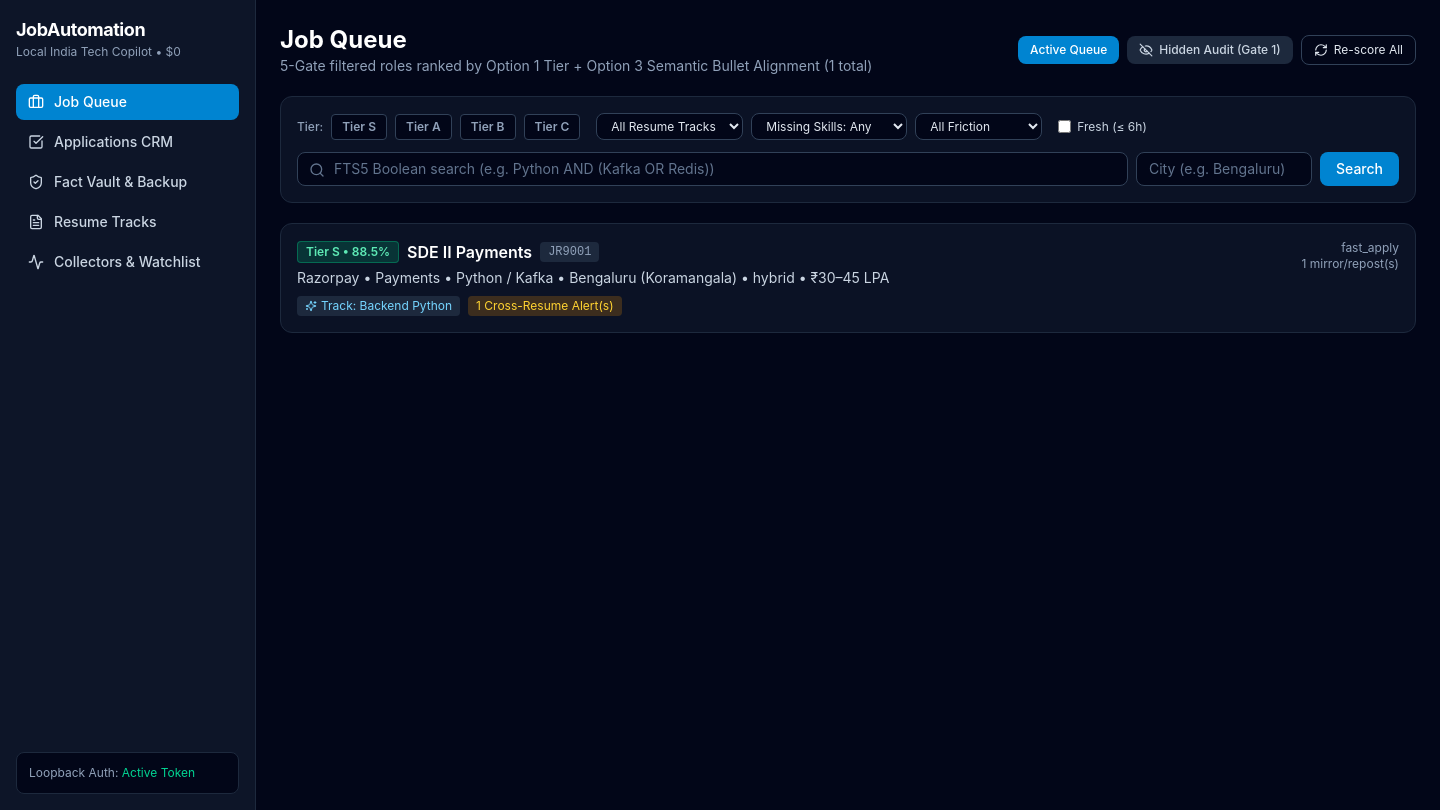
Test: JobAutomation Dashboard (Cycle 5) › renders Job Queue, binds FTS5 search & tier filter, and toggles Hidden Audit tab
The image size is (1440, 810).
Check: the heading "SDE II Payments" is shown, box [407, 240, 532, 264]
Check: the text "Tier S • 88.5%" is shown, box [297, 241, 399, 263]
Note: FTS5 search + Tier S filter
Click the button "Tier S": (359, 126) [331, 114, 387, 140]
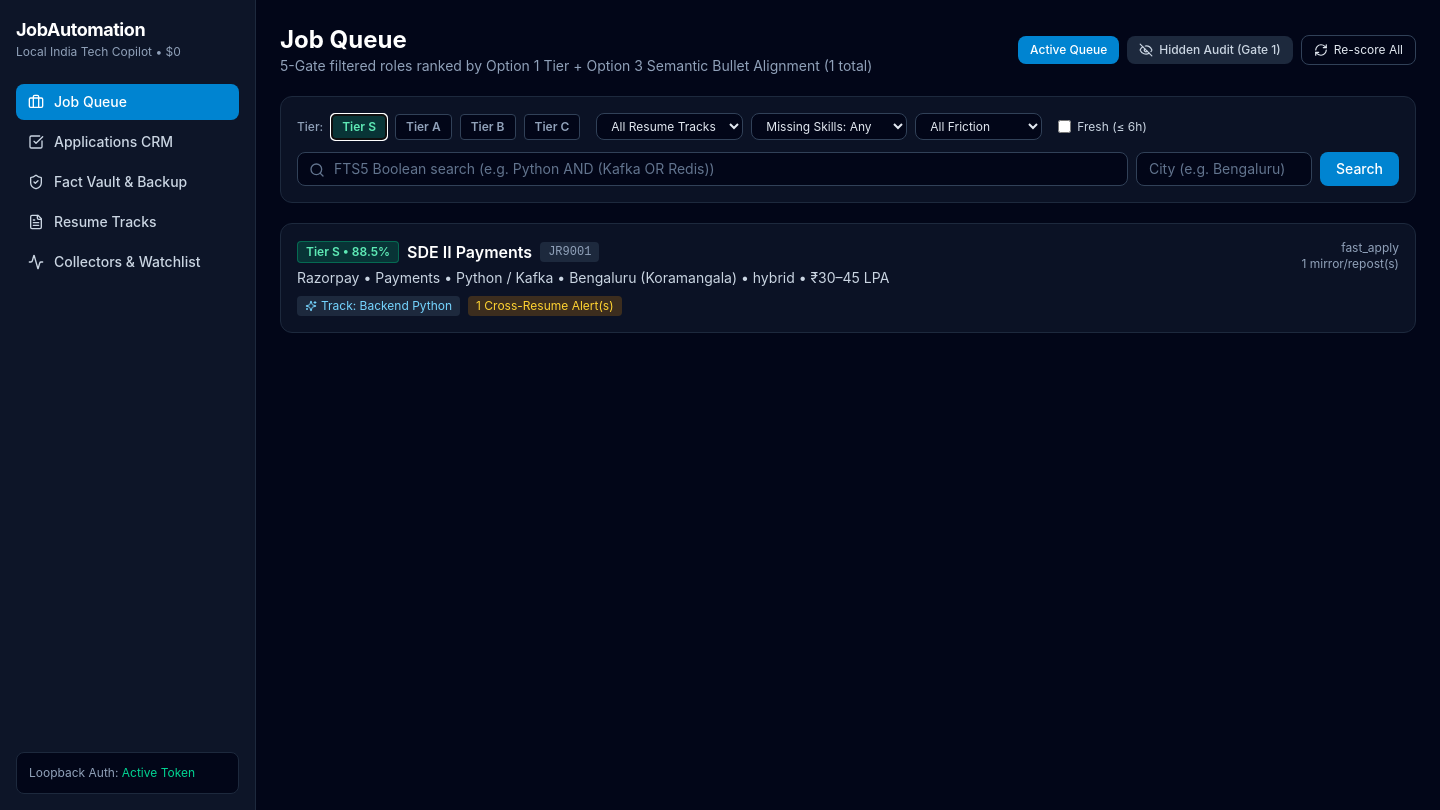
In the field with placeholder "FTS5 Boolean search (e.g. Python AND (Kafka OR Redis))": (712, 169) [297, 152, 1128, 186], type "Python AND Kafka"
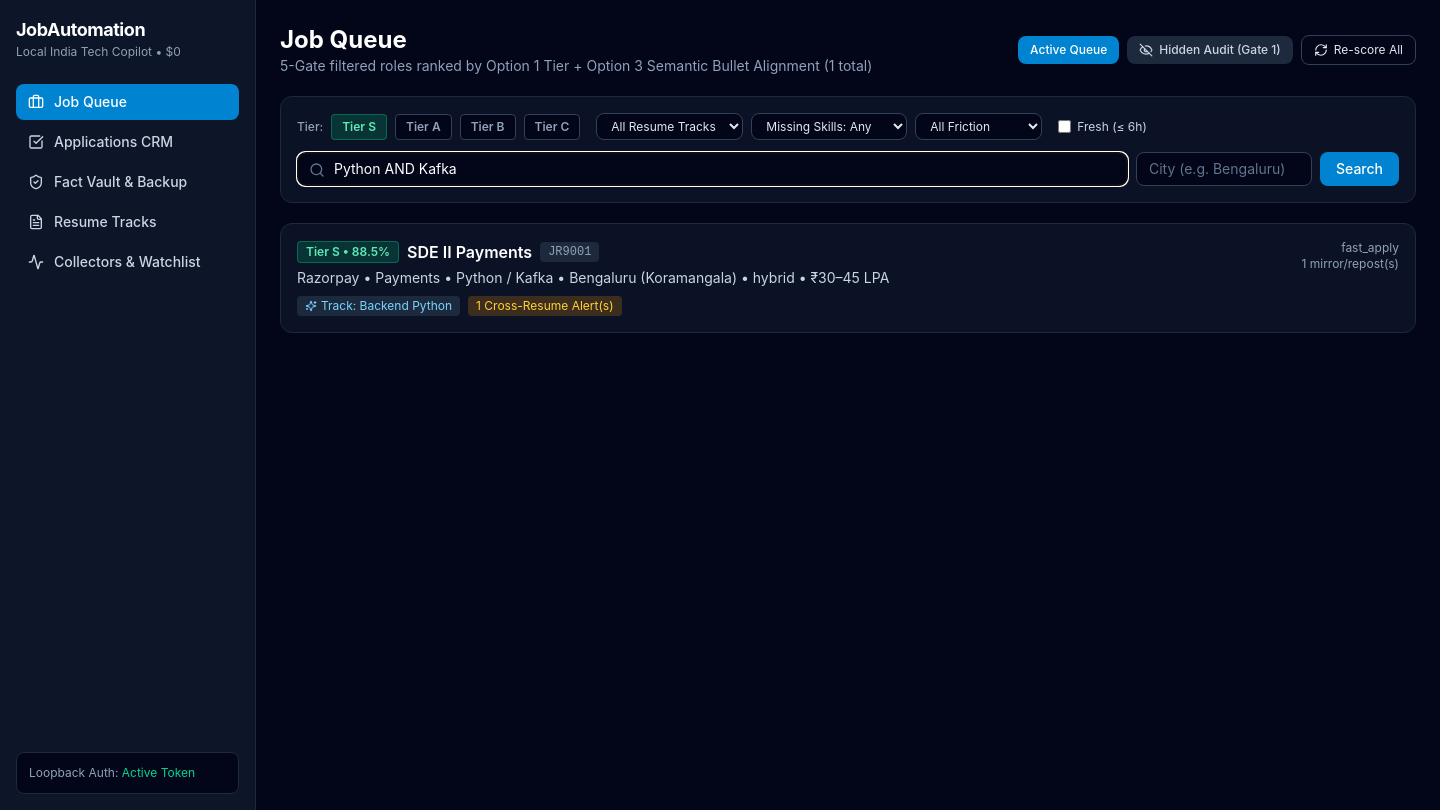
Click the button "Search": (1360, 169) [1320, 152, 1399, 186]
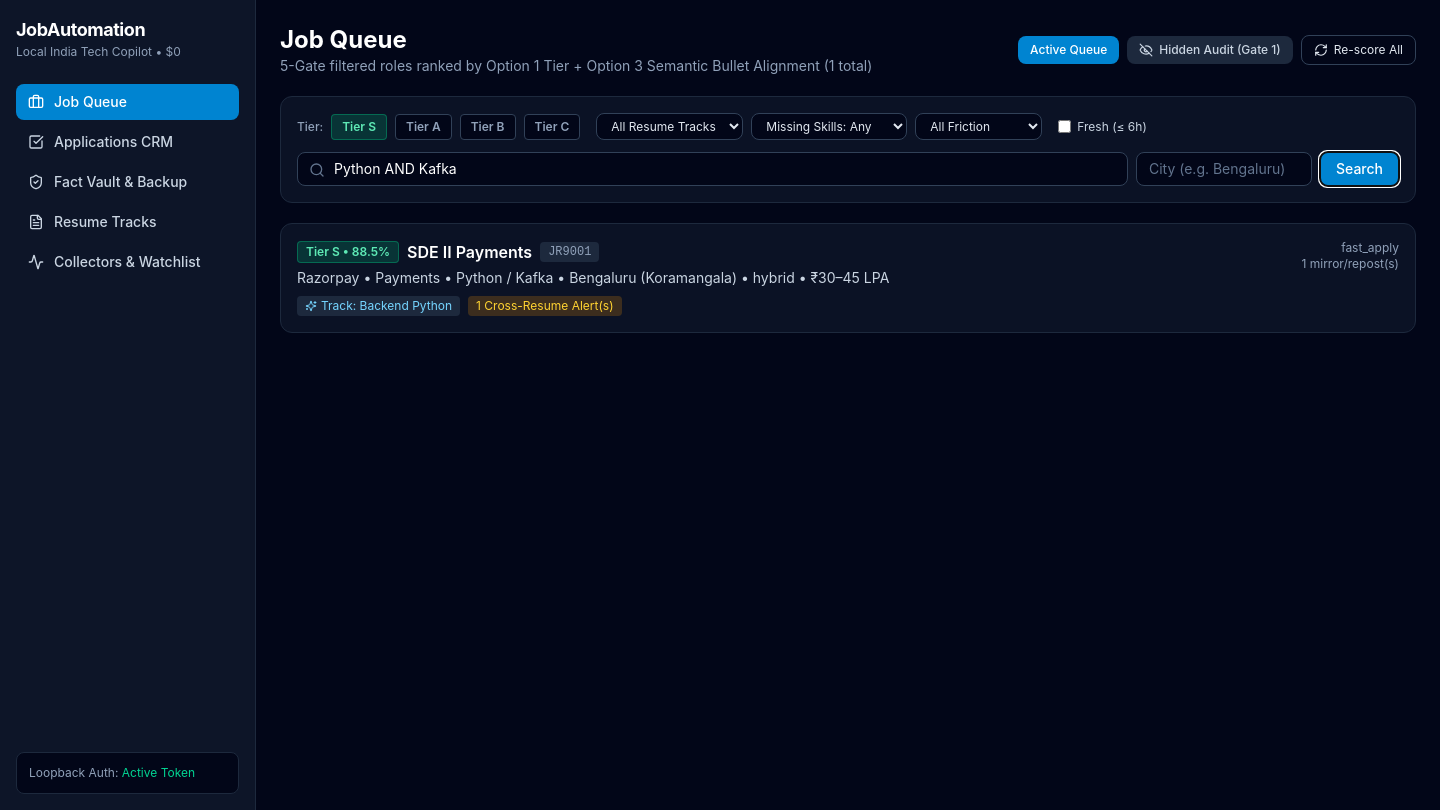
Note: Switch to Hidden Audit tab
Click the button "Hidden Audit (Gate 1)": (1210, 50) [1127, 36, 1293, 64]
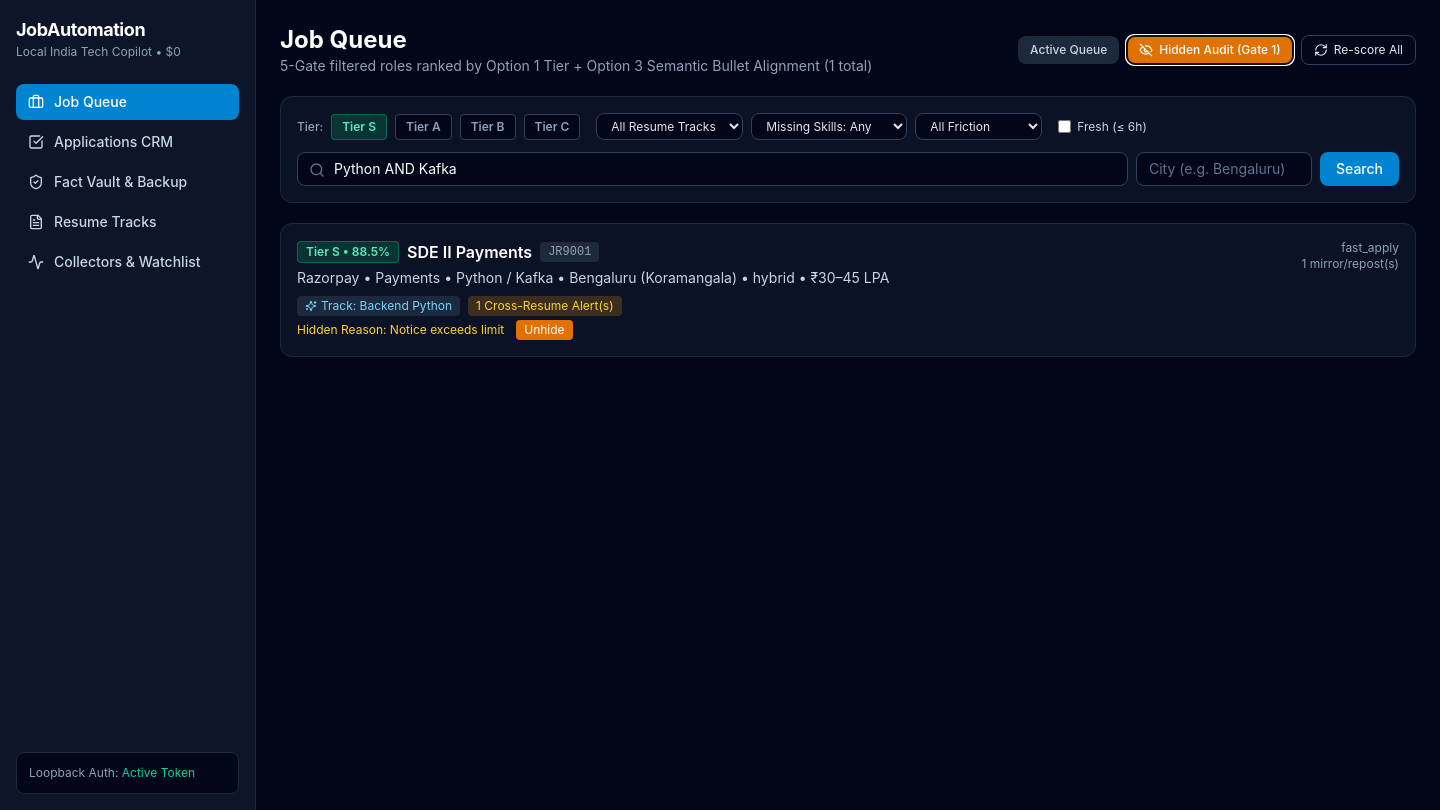
Check: the text "Hidden Reason: Notice exceeds limit" is shown, box [297, 322, 504, 338]
